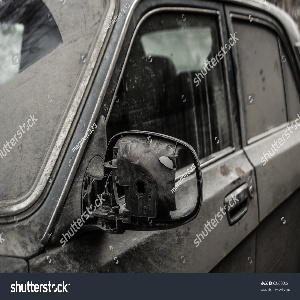side_mirror: (96, 124, 202, 233)
